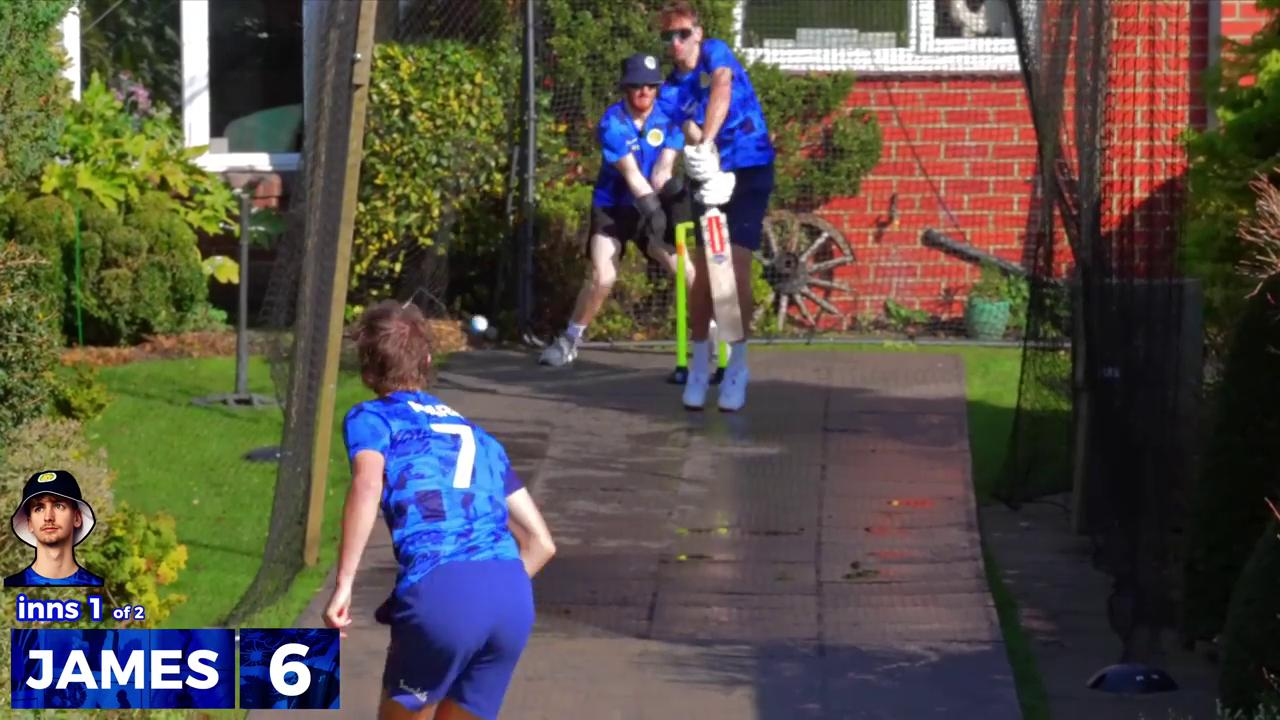ball: (460, 312, 498, 335)
